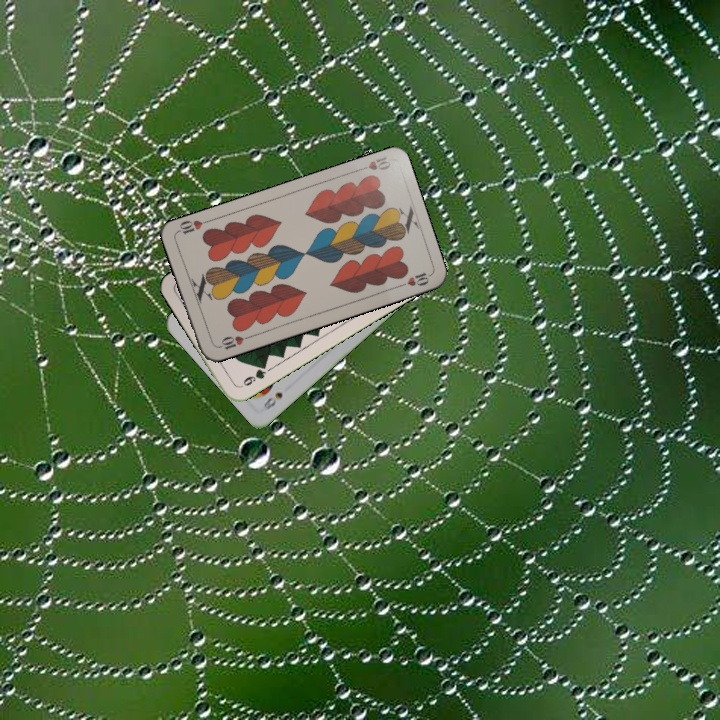G9: (236, 360, 269, 390)
H10: (353, 152, 393, 174), (213, 332, 253, 352)
S8: (260, 388, 285, 413)
